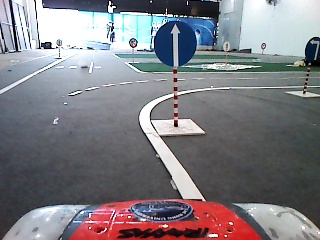straight: (155, 21, 197, 66)
